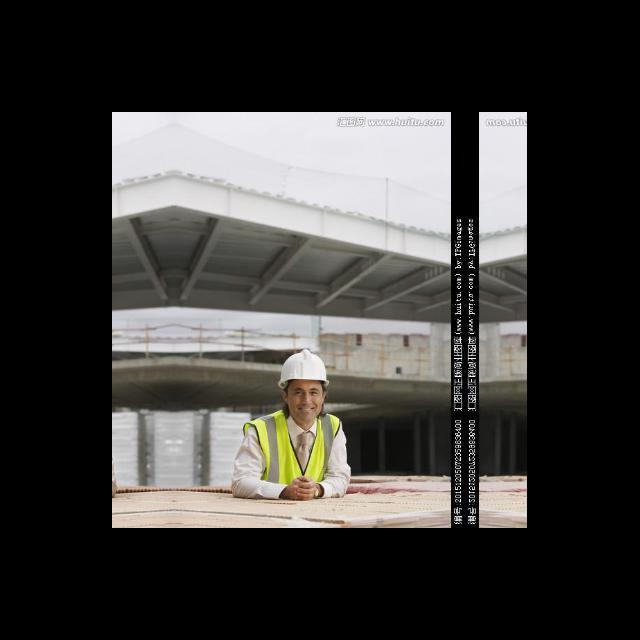Hardhat: (279, 349, 330, 389)
NO-Mask: (293, 404, 321, 423)
Person: (234, 351, 352, 501)
Safety Vest: (243, 411, 341, 486)
